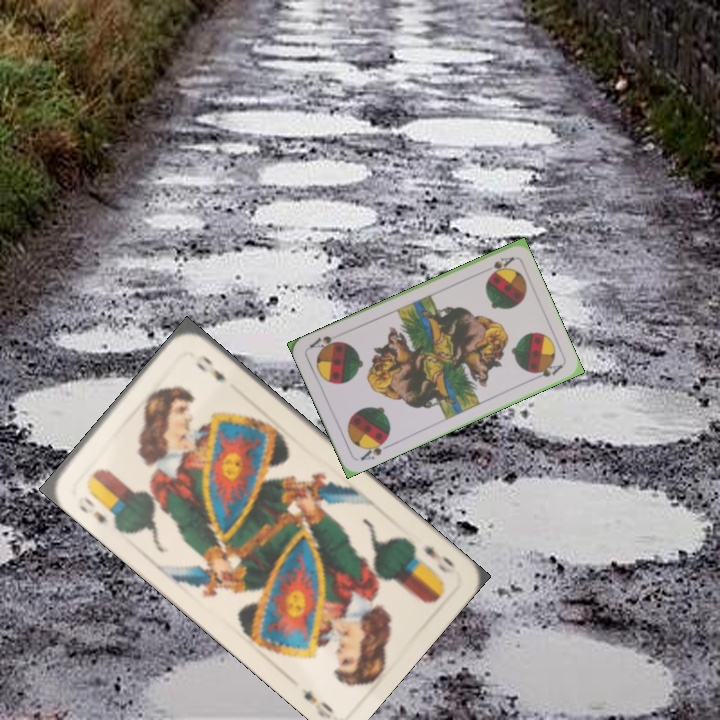EO: (419, 542, 459, 577), (75, 492, 111, 527)
SA: (356, 434, 393, 463), (486, 252, 517, 277)
